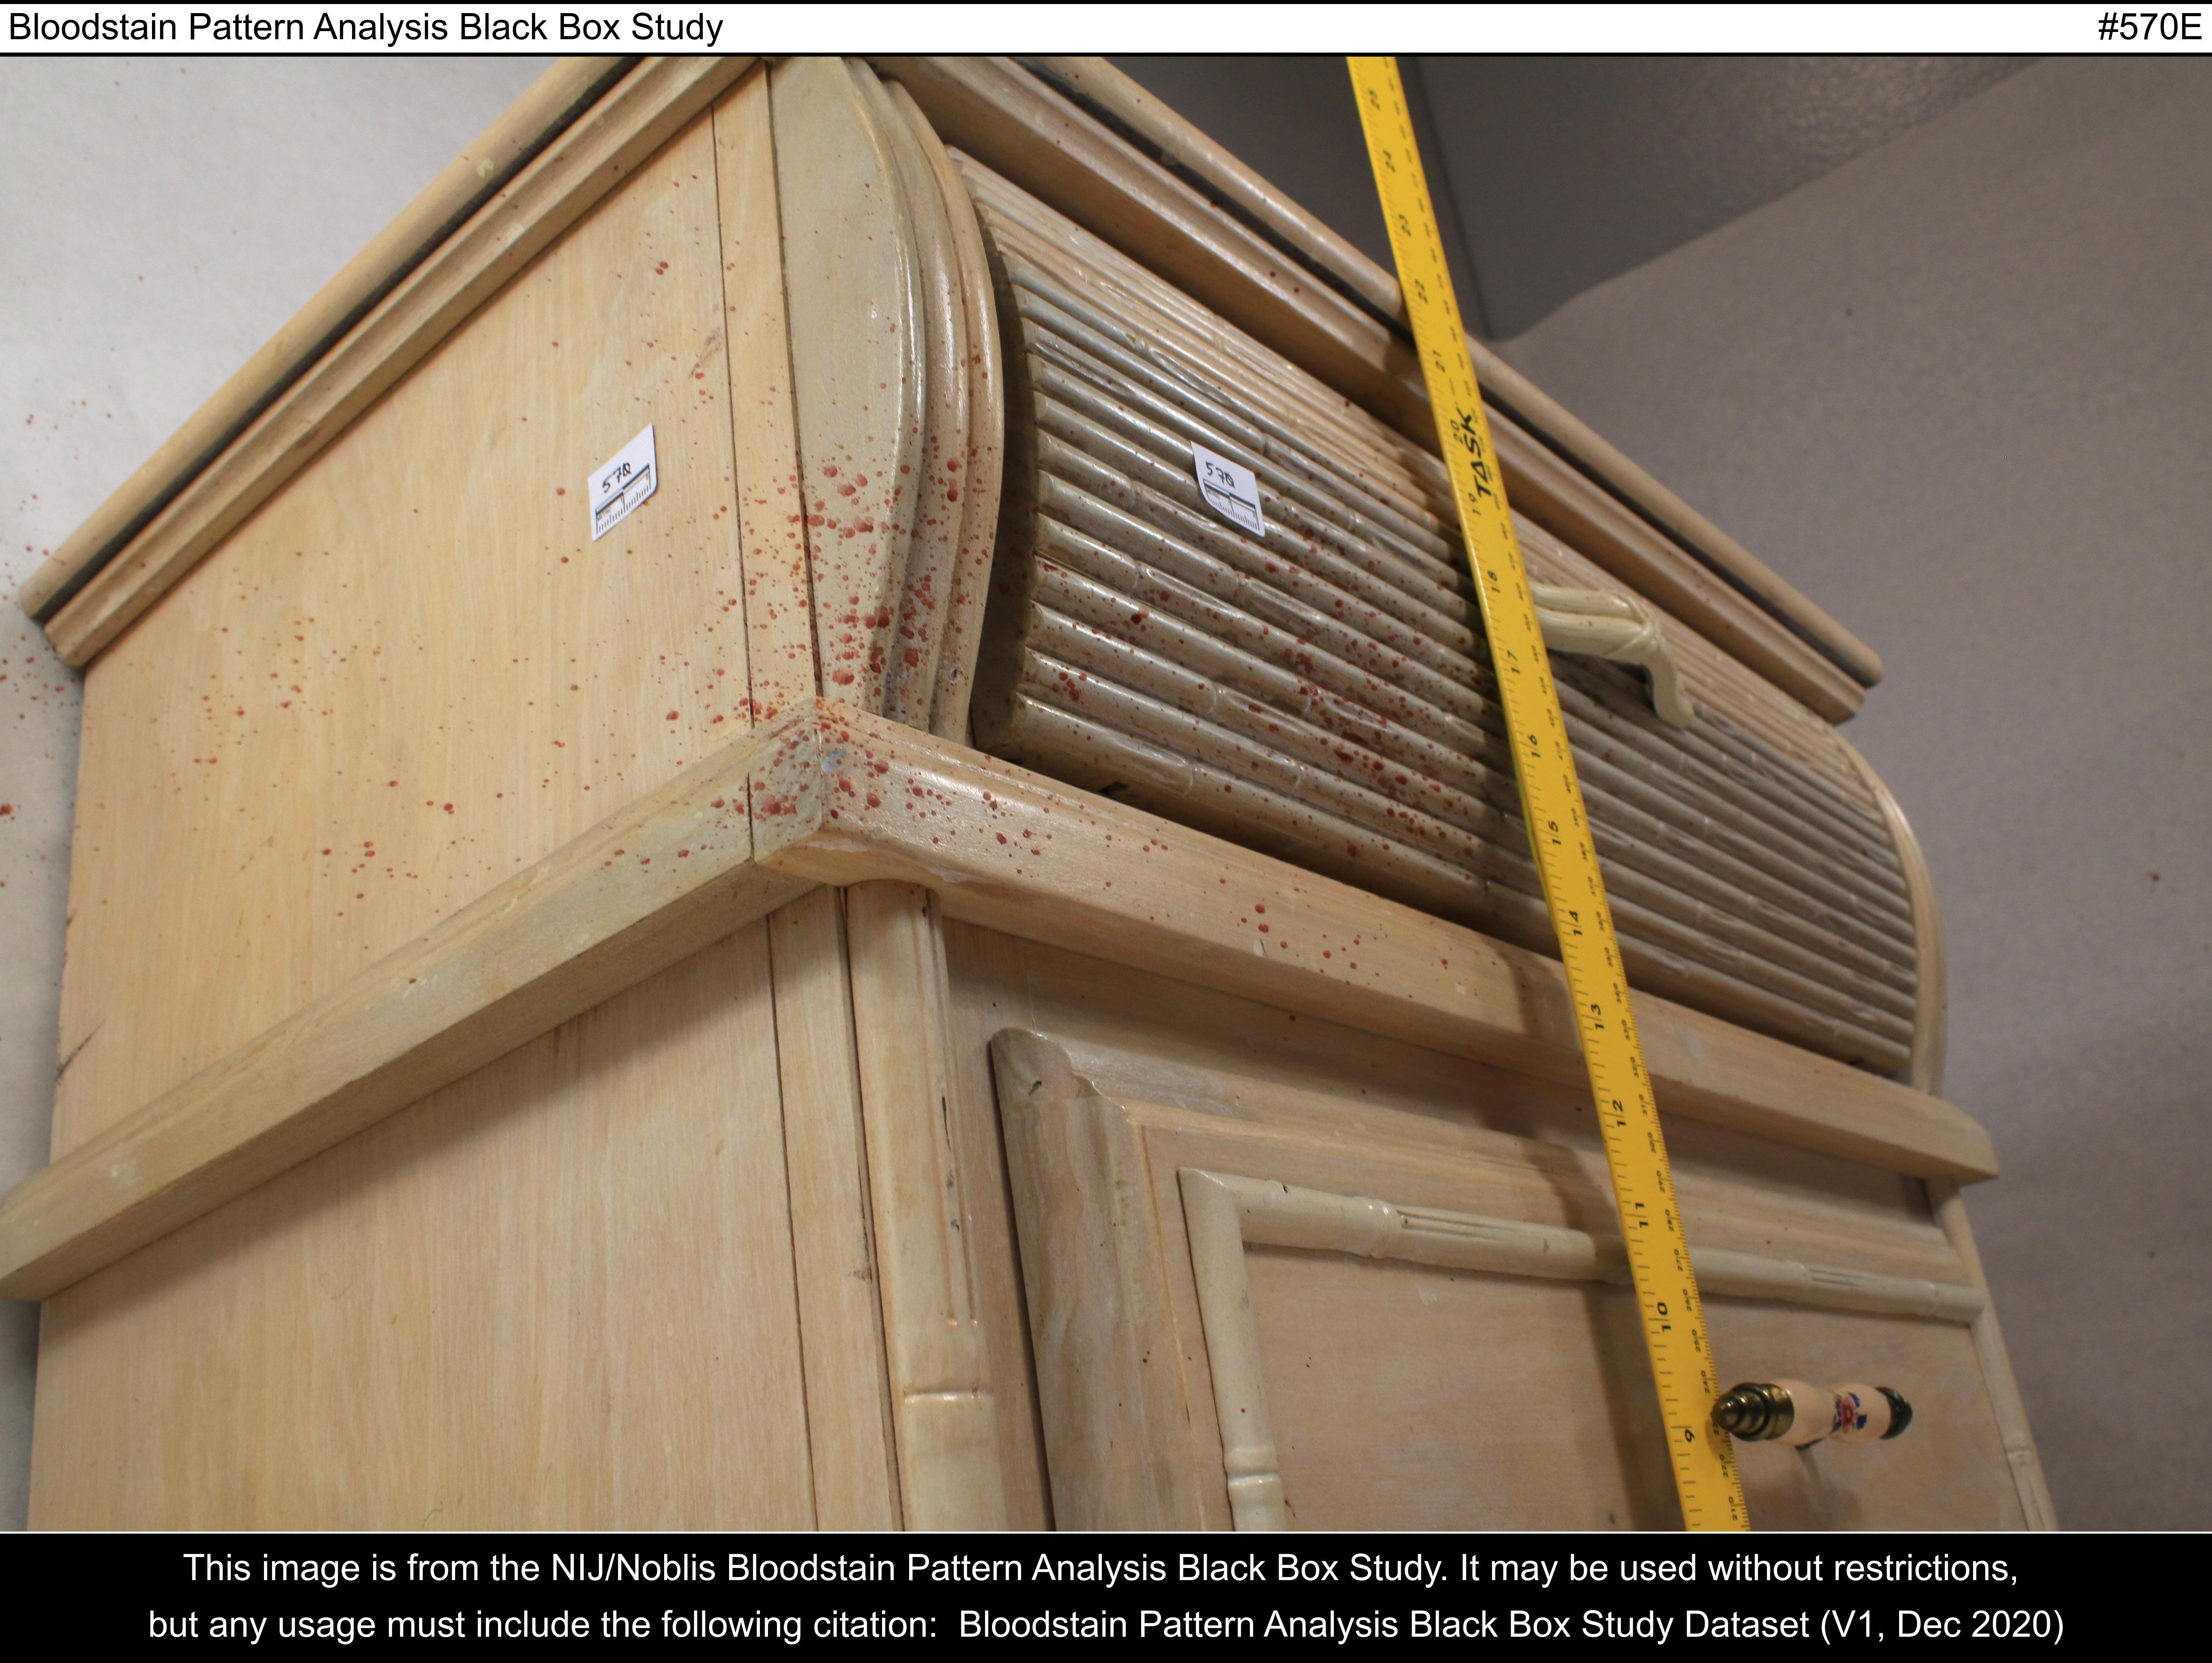Impact: (0, 121, 1528, 1172)
